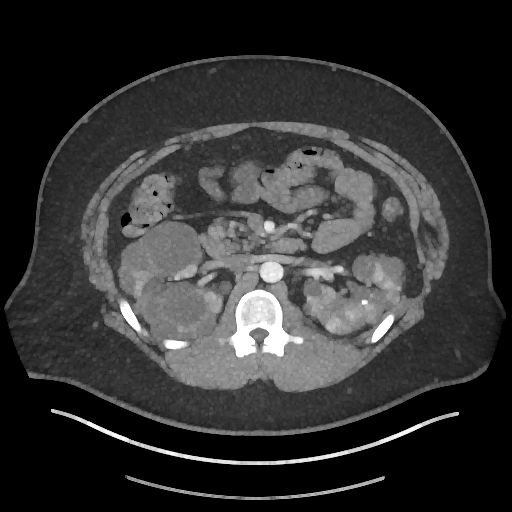Lesion: (322, 317, 344, 335)
